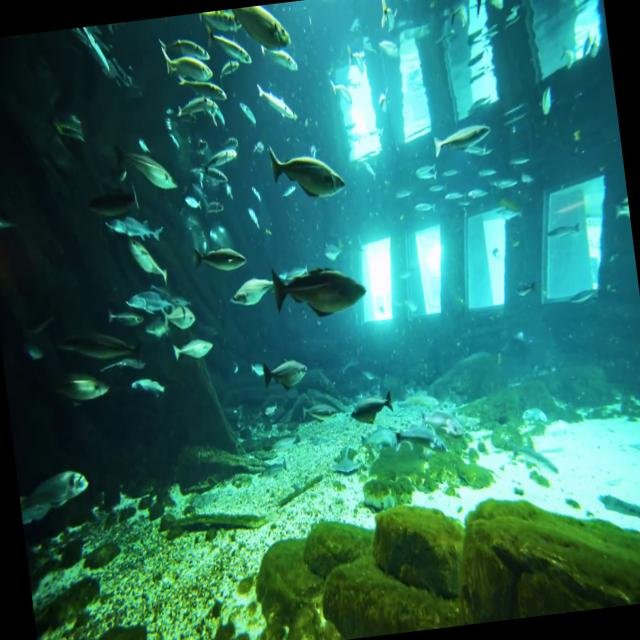fish: (271, 256, 368, 322), (266, 140, 345, 206), (110, 137, 177, 197), (234, 2, 289, 55), (429, 116, 491, 160), (189, 238, 245, 272), (262, 355, 310, 390), (348, 390, 393, 426), (170, 336, 212, 364)
